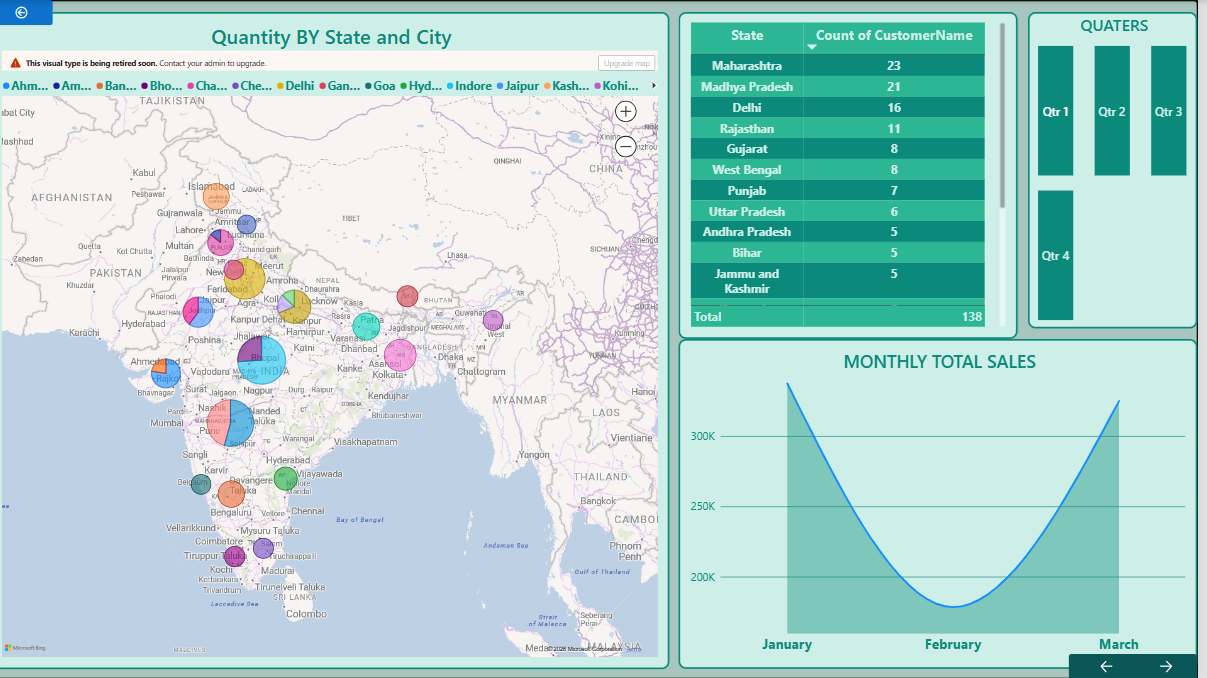

The page's visual inventory and layout, read from the dashboard file:
{"tool":"powerbi","page":{"name":"map and monthly sales","canvas":[1920,1080],"ordinal":1},"visuals":[{"type":"map","title":" Quantity BY State and City","fields":{"Category":["Orders.State"],"Series":["Orders.City"],"Size":["Sum(Details.Quantity)"]},"box":[0,19.1,1080.8,1045],"z":0},{"type":"tableEx","fields":{"Values":["Orders.State","Orders.CustomerName"]},"box":[1095.1,19.1,539.2,520.1],"z":1000},{"type":"stackedAreaChart","title":"MONTHLY TOTAL SALES","fields":{"Category":["Orders.Order Date.Variation.Date Hierarchy.Month"],"Y":["Sum(Details.total sales)"]},"box":[1095.1,539.2,825.5,524.9],"z":2000},{"type":"advancedSlicerVisual","title":"QUATERS","fields":{"Values":["Orders.Order Date.Variation.Date Hierarchy.Quarter"]},"box":[1651.1,19.1,269.6,503.4],"z":3000},{"type":"actionButton","box":[0,0,100,40],"z":4000},{"type":"actionButton","box":[1715.5,1040.3,121.7,40.6],"z":4004},{"type":"actionButton","box":[1820.5,1040.3,100.2,40.6],"z":4005}]}

Visuals, with their boxes in screenshot pixels (x1, y1, x2, y2), scaled from the page's 1920x1080 canvas onto the 1207x678 screenshot:
" Quantity BY State and City" map: [left=0, top=12, right=679, bottom=668]
tableEx - Orders.State x Orders.CustomerName: [left=688, top=12, right=1027, bottom=338]
"MONTHLY TOTAL SALES" stackedAreaChart: [left=688, top=338, right=1206, bottom=668]
"QUATERS" advancedSlicerVisual: [left=1038, top=12, right=1206, bottom=328]
actionButton: [left=0, top=0, right=63, bottom=25]
actionButton: [left=1078, top=653, right=1155, bottom=677]
actionButton: [left=1144, top=653, right=1206, bottom=677]
